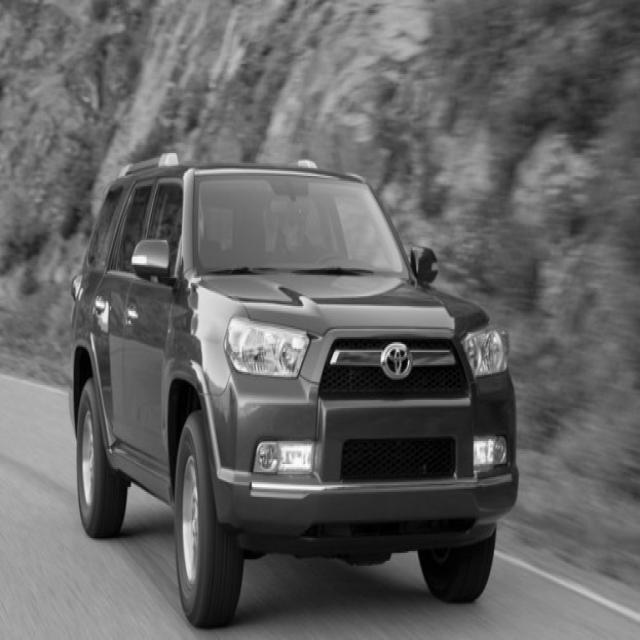car: (67, 150, 519, 628)
